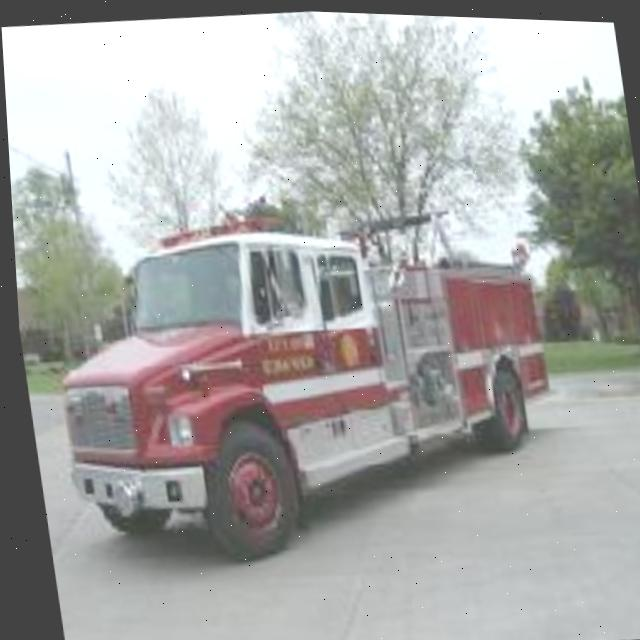emergency: (77, 189, 590, 564)
